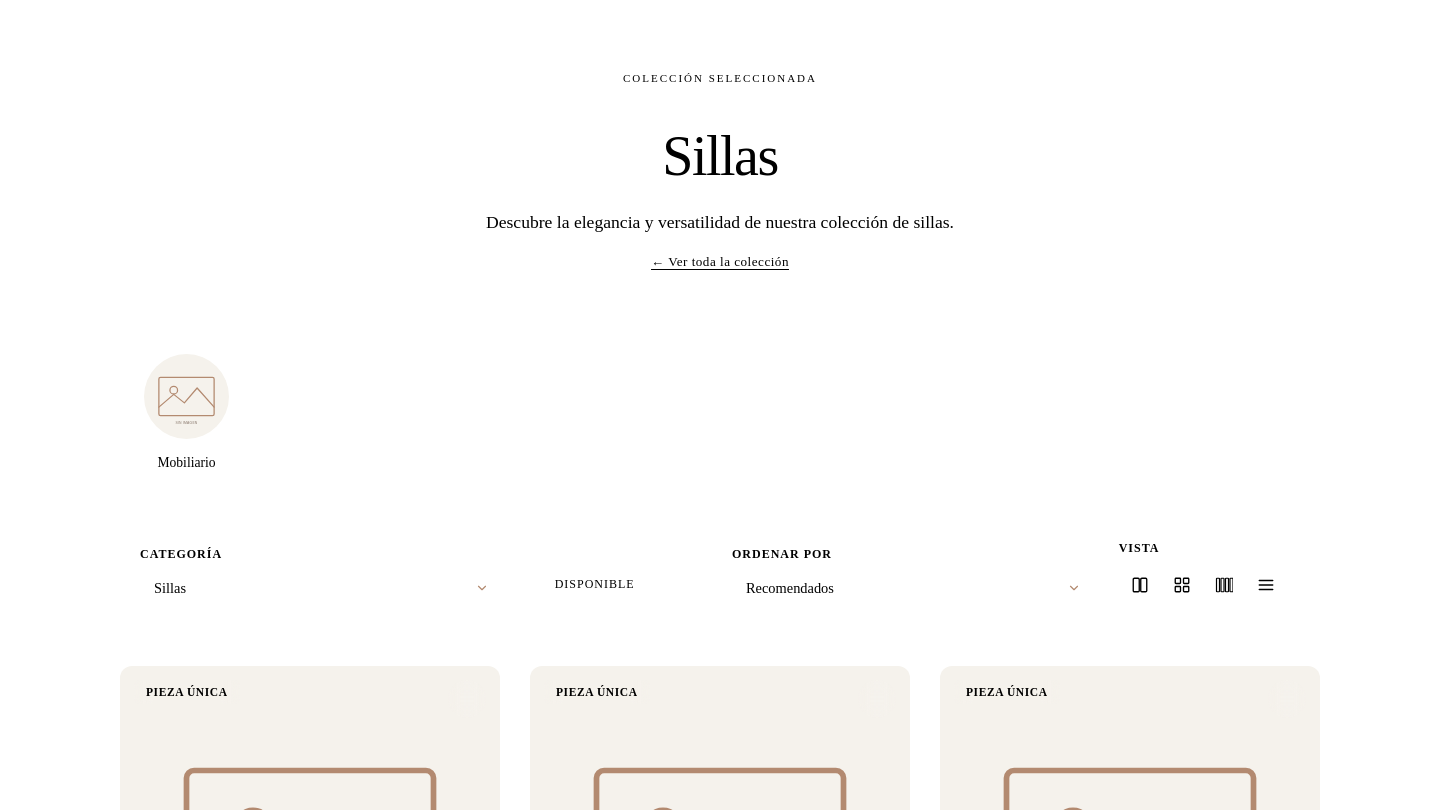
Catalog — el orden en la URL (?orden=) › cambiar el orden no pierde la categoría de la URL, y cambiar la categoría no pierde el orden
The image size is (1440, 810).
Select "Referencia (A-Z)" in the dropdown labelled "Ordenar por". click: [913, 588]
box: x1=732 y1=570 x2=1095 y2=606
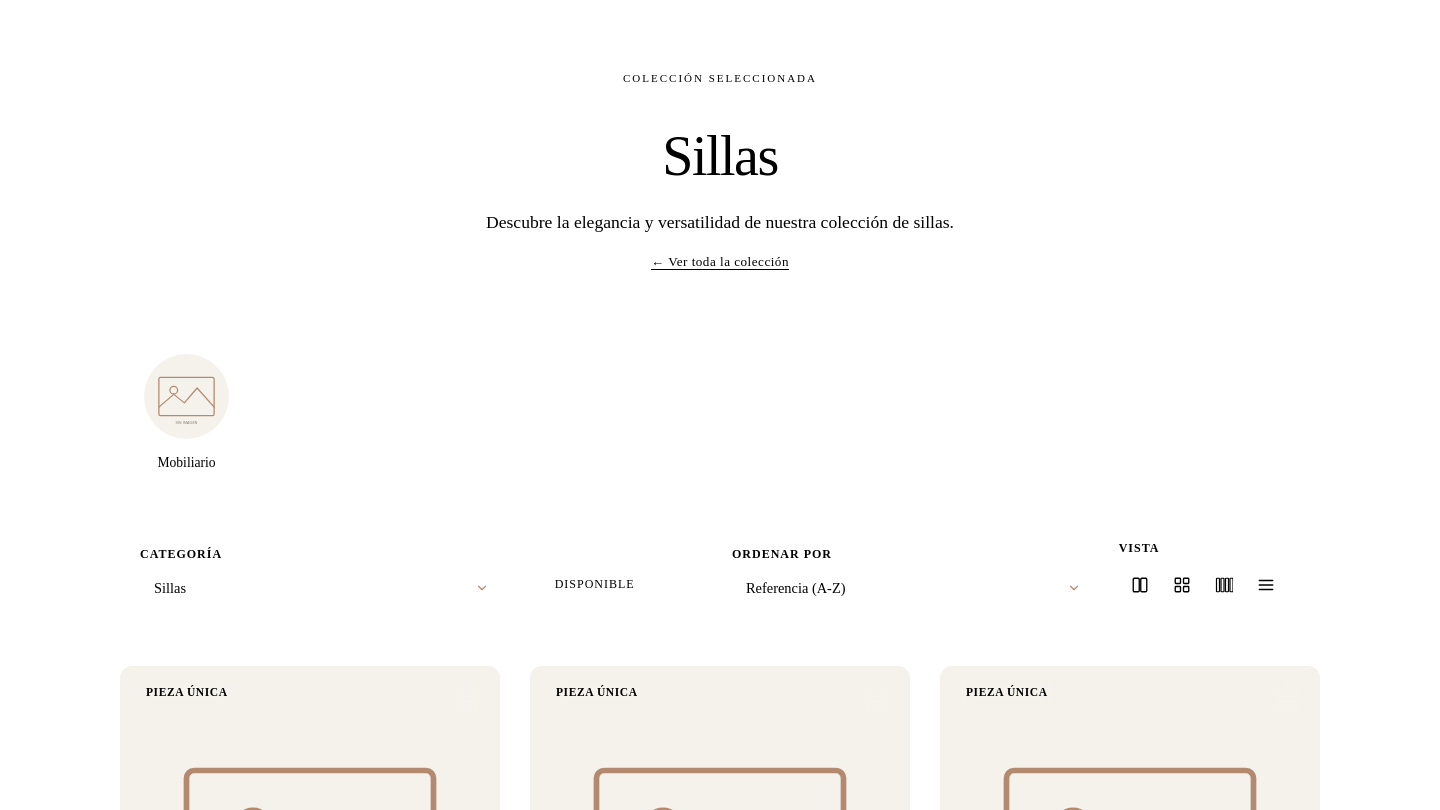
Expected: the heading "Sillas" is shown, x1=662 y1=124 x2=778 y2=186
Select "Mesas" in the dropdown labelled "Categoría". click: [321, 588]
box: x1=140 y1=570 x2=503 y2=606
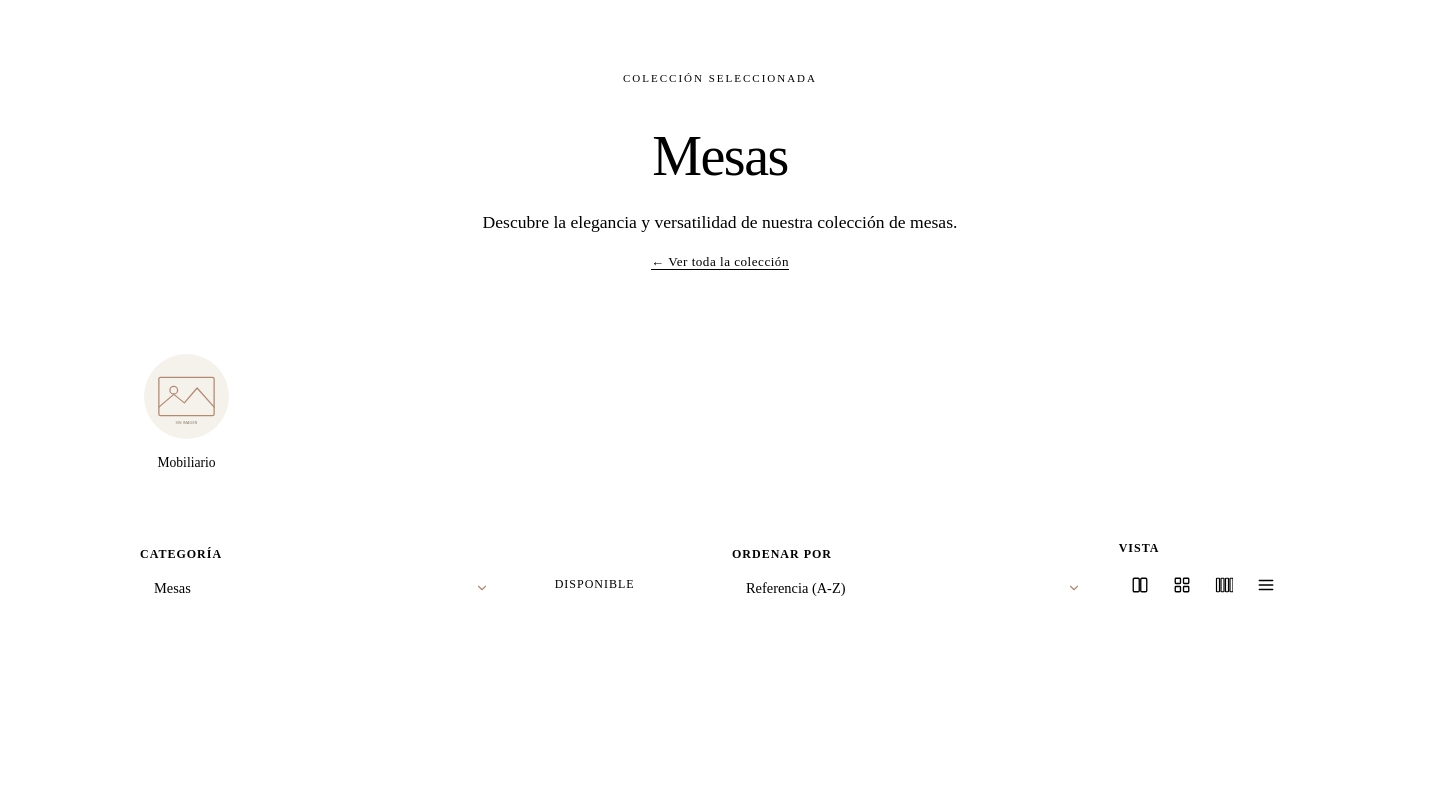
Expected: the heading "Mesas" is shown, x1=652 y1=124 x2=788 y2=186
